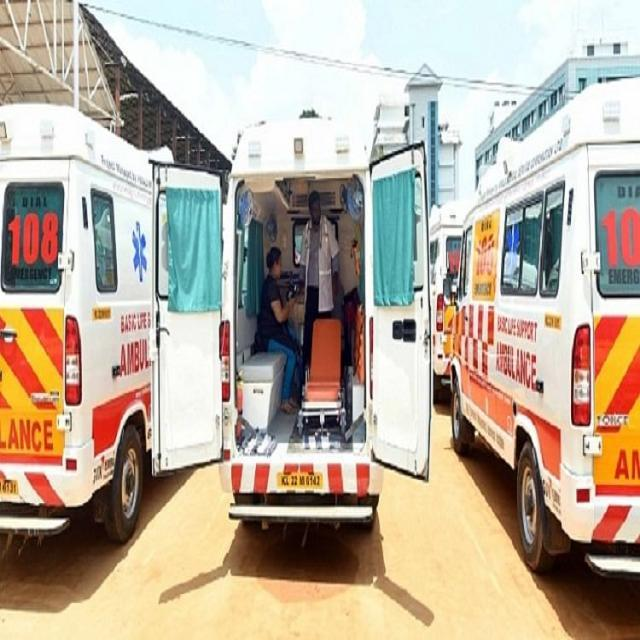ambulance: (148, 115, 442, 541), (458, 108, 640, 587), (0, 94, 155, 546)
